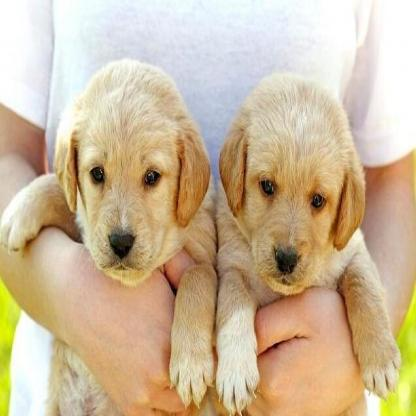Labarador Retriever: (1, 60, 219, 406), (205, 75, 400, 416)
